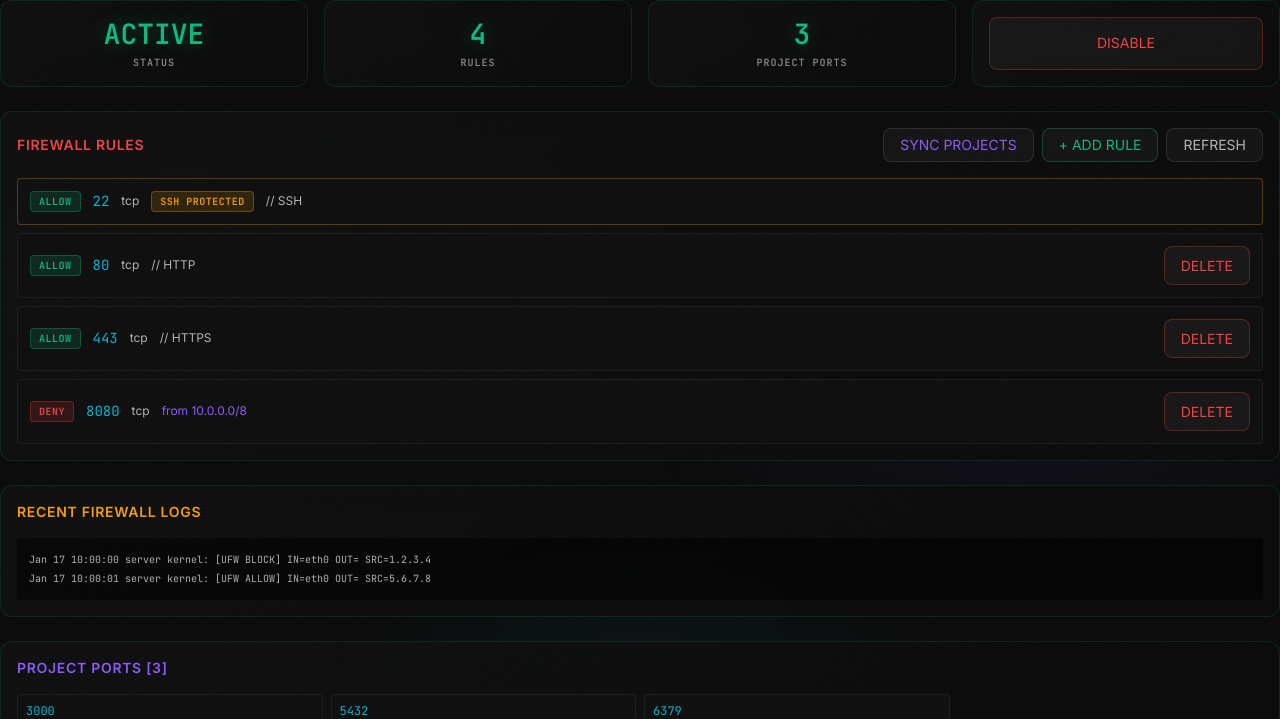
FirewallPane › delete rule › should show SSH protection error when deleting SSH rule
Click the 1st button "DELETE": (1207, 265) [1164,246,1250,285]
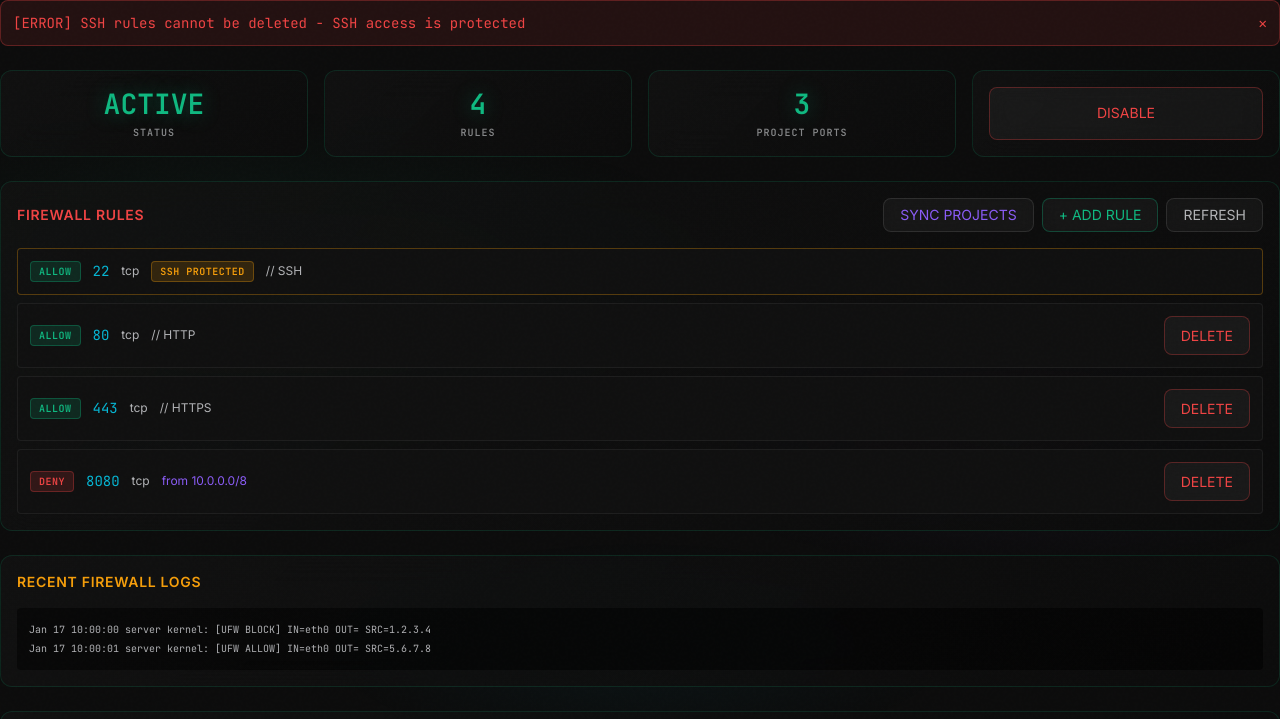
Now the text "SSH rules cannot be deleted" is shown, box [80,14,525,32]
